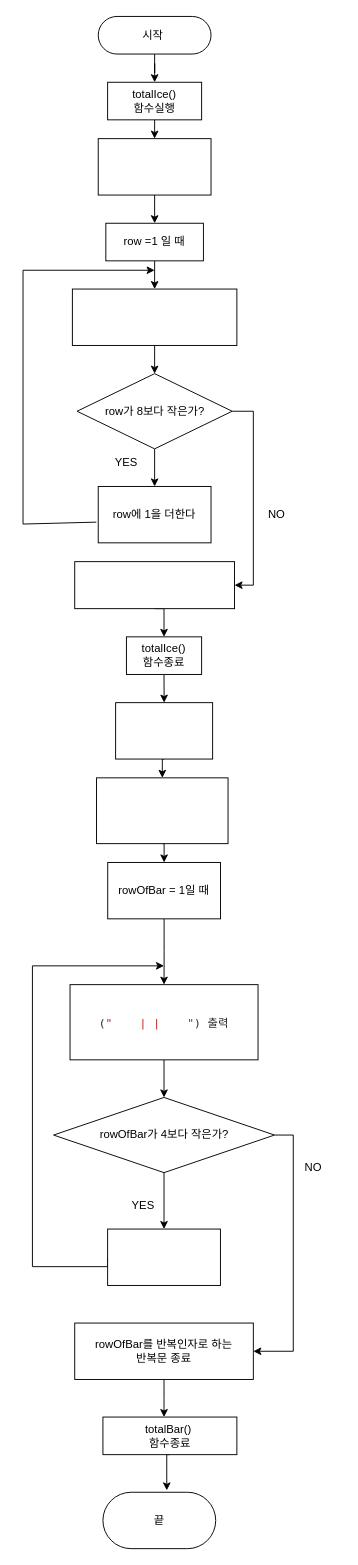
Some shapes in this 358 by 1565 pixel diagram are drawn without their labels. Here are the shapes that lost their labels. From the top down, the box of each, then its label:
(97, 138, 211, 195): row를 반복인자로 갖는 반복문 실행
(71, 288, 237, 345): ( "***********" ) 출력
(74, 561, 235, 609): row를 반복인자로 하는 반복문 종료
(115, 702, 213, 759): totalBar() 함수실행
(96, 777, 228, 844): rowOfBar를 반복인자로 갖는 반복문 실행
(107, 1228, 220, 1285): rowOfBar에 1을 더한다
